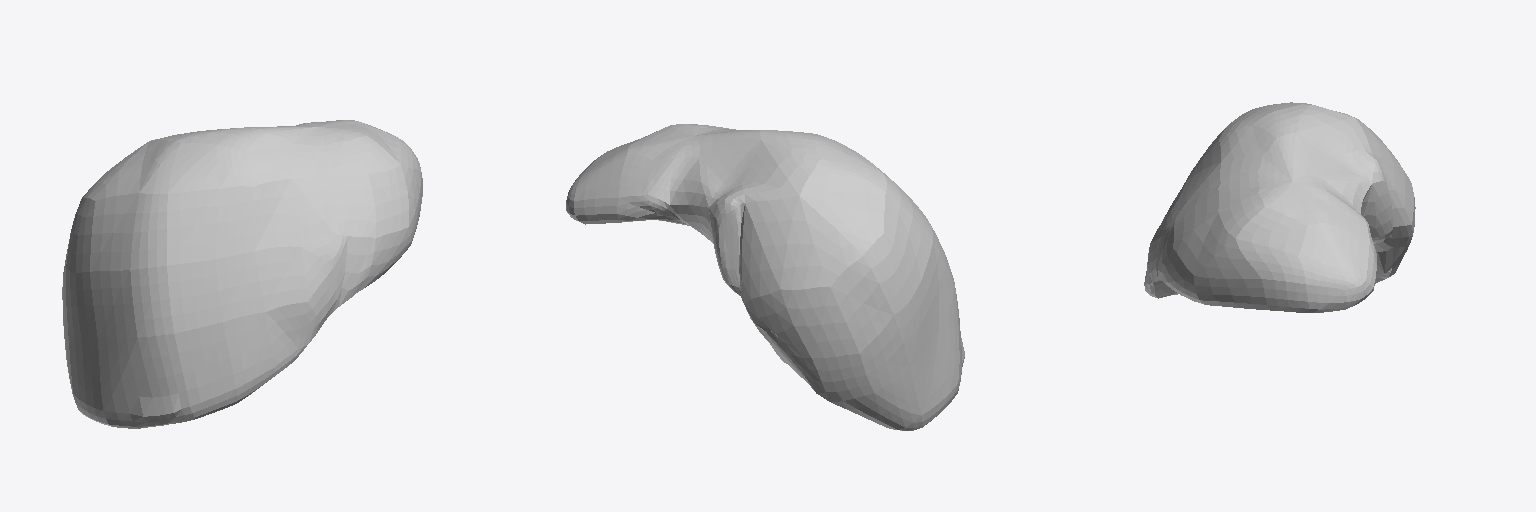
The model's file is visual_foie_def.obj.
3 views of the same model, side by side, from view 1: azimuth 30°, elevation 25°; view 2: azimuth 150°, elevation 25°; view 3: azimuth 270°, elevation 25° (orthographic).
Visible parts, largest first — view 1: 1_VisualModel; view 2: 1_VisualModel; view 3: 1_VisualModel.
Part boxes in pixels (bbox=[...]): 1_VisualModel: bbox=[62, 120, 422, 428]; 1_VisualModel: bbox=[566, 124, 964, 430]; 1_VisualModel: bbox=[1144, 102, 1415, 312].
Size of the model in its own units: 6.65 by 4.64 by 4.54.